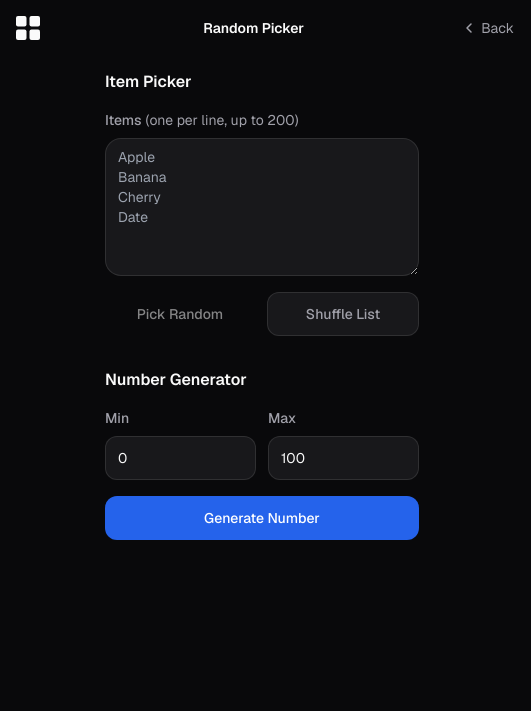
Test: RandomPickerTool › reroll button › is present after a number generation result is shown
The width and height of the screenshot is (531, 711).
Click the button with aria-label "generate a random number".
click(262, 518)  # box [105,496,419,540]
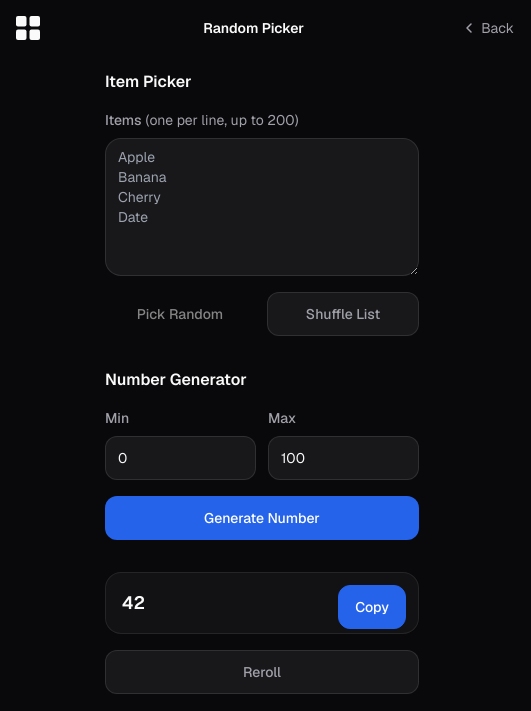
Expected: the button "Reroll" is shown, [105,650,419,694]
